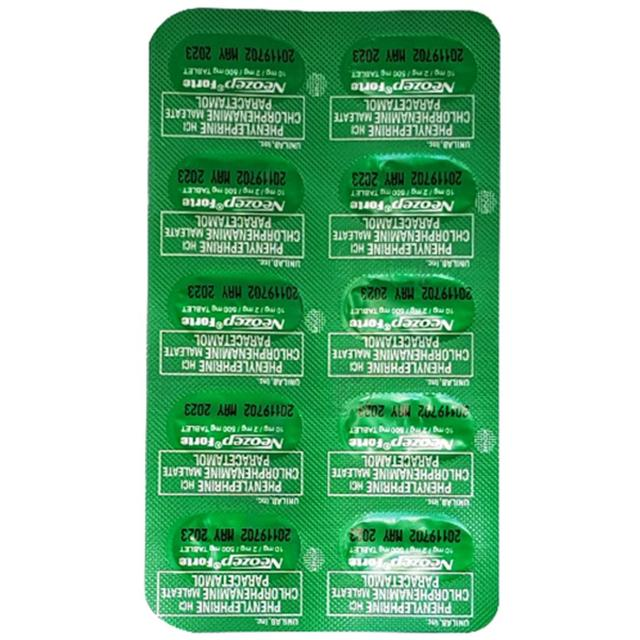blister: (143, 4, 503, 636)
